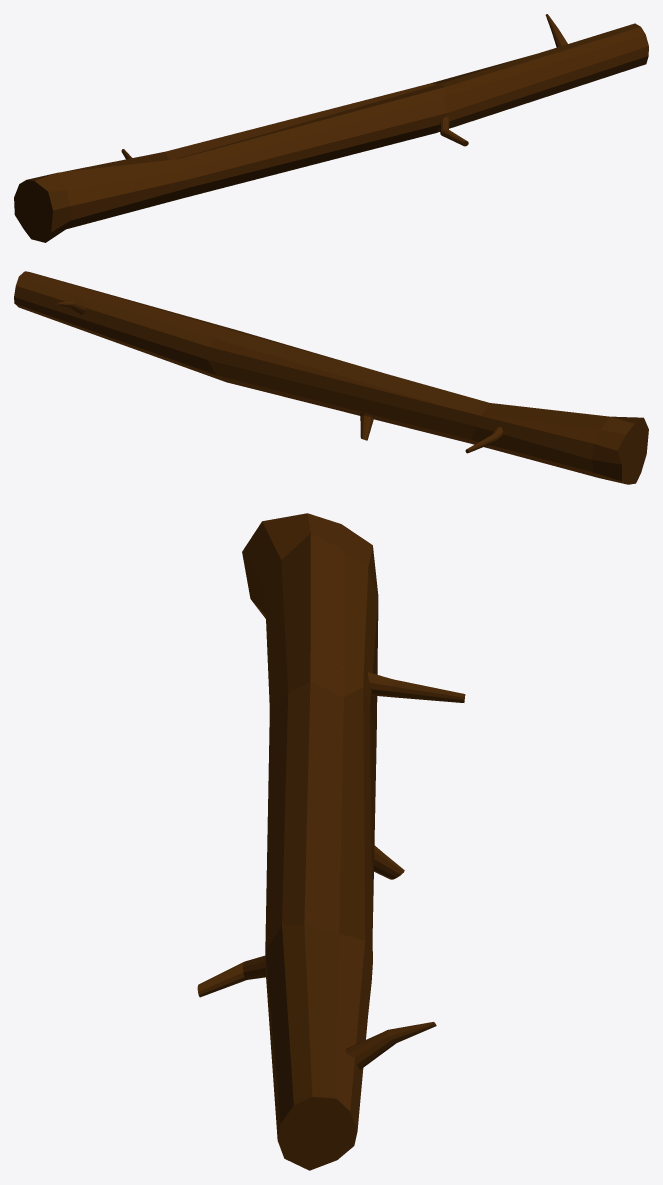
Rendered from fallen_log_variant4.fbx.
The picture shows the model from 3 angles, top to bottom: view 1: azimuth 30°, elevation 25°; view 2: azimuth 150°, elevation 25°; view 3: azimuth 270°, elevation 25°; orthographic projection. The views are drawn at different scales.
Visible parts, largest first — view 1: Cylinder.001, Cylinder.003; view 2: Cylinder.001, Cylinder.005; view 3: Cylinder.001, Cylinder.005, Cylinder.006, Cylinder.003.
Part boxes in pixels (x1=…): Cylinder.001: x1=14, y1=23, x2=648, y2=242; Cylinder.003: x1=439, y1=117, x2=468, y2=146; Cylinder.001: x1=14, y1=271, x2=648, y2=484; Cylinder.005: x1=465, y1=414, x2=509, y2=453; Cylinder.001: x1=242, y1=513, x2=378, y2=1170; Cylinder.005: x1=330, y1=660, x2=465, y2=702; Cylinder.006: x1=345, y1=1022, x2=436, y2=1069; Cylinder.003: x1=197, y1=955, x2=265, y2=997.
Size of the model in its own units: 489 by 55.81 by 92.64.
